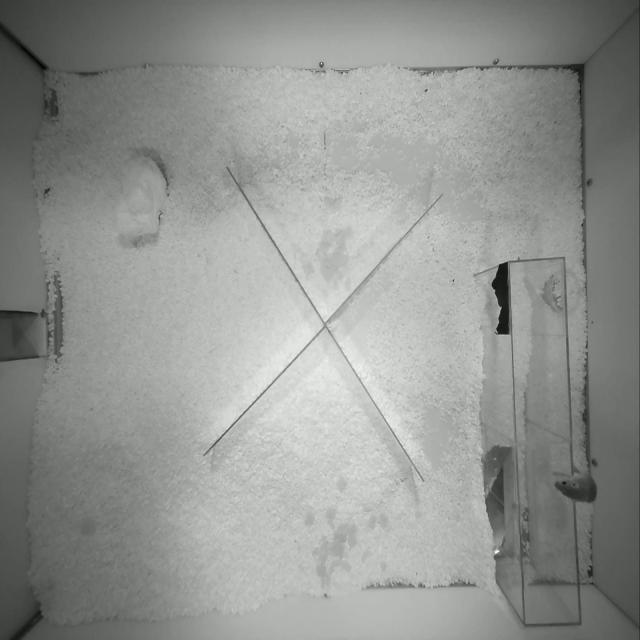pup_fluffy: (554, 472, 596, 502)
